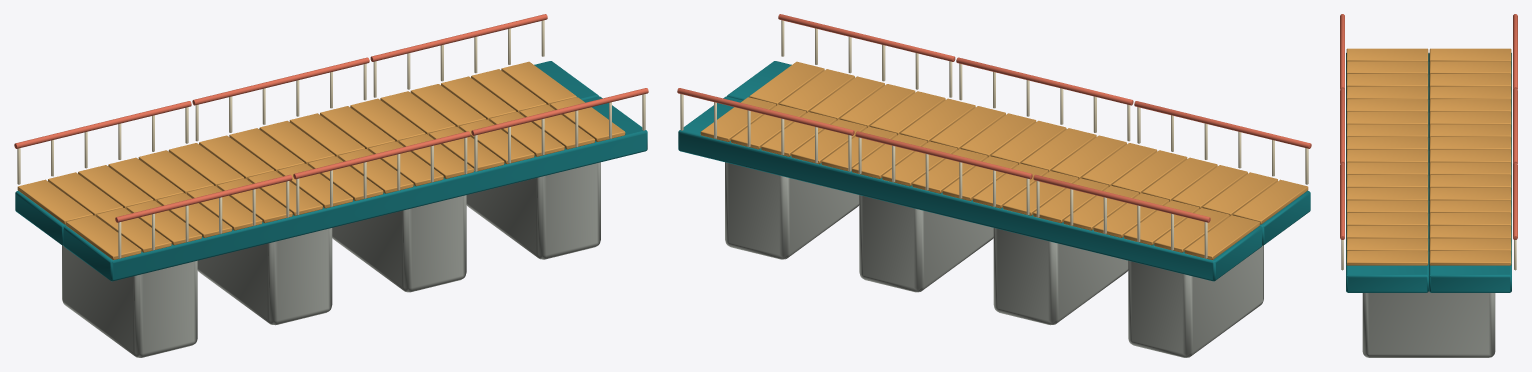
Rendered from project_2.glb.
3 views of the same model, side by side, from view 1: azimuth 30°, elevation 25°; view 2: azimuth 150°, elevation 25°; view 3: azimuth 270°, elevation 25° (orthographic). The views are drawn at different scales.
Visible parts, largest first — view 1: deck plank, deck plank.017, deck beam.001, bridge pier, bridge pier.001, bridge pier.002, bridge pier.003, handrail.016, handrail.018, handrail.014, deck beam, railing.012 (+2 smaller); view 2: deck plank.017, deck plank, deck beam, bridge pier, bridge pier.001, bridge pier.002, bridge pier.003, handrail.016, handrail.018, handrail.014, deck beam.001, railing.012 (+2 smaller); view 3: deck plank, deck plank.017, bridge pier.003, deck beam, deck beam.001, handrail.018, handrail.014, handrail.016, railing.024.
Boxes of the visible parts, bbox=[...] form: deck plank: bbox=[17, 61, 576, 224]; deck plank.017: bbox=[66, 97, 625, 260]; deck beam.001: bbox=[63, 96, 647, 281]; bridge pier: bbox=[62, 245, 197, 357]; bridge pier.001: bbox=[197, 228, 332, 325]; bridge pier.002: bbox=[332, 195, 466, 292]; bridge pier.003: bbox=[466, 162, 600, 259]; handrail.016: bbox=[192, 57, 470, 179]; handrail.018: bbox=[370, 14, 648, 135]; handrail.014: bbox=[14, 101, 292, 222]; deck beam: bbox=[15, 61, 598, 245]; railing.012: bbox=[195, 63, 467, 214]; deck plank.017: bbox=[749, 61, 1308, 224]; deck plank: bbox=[700, 97, 1259, 260]; deck beam: bbox=[678, 96, 1262, 281]; bridge pier: bbox=[1128, 245, 1263, 357]; bridge pier.001: bbox=[993, 228, 1128, 325]; bridge pier.002: bbox=[859, 195, 993, 292]; bridge pier.003: bbox=[725, 162, 859, 259]; handrail.016: bbox=[855, 57, 1133, 179]; handrail.018: bbox=[677, 14, 955, 135]; handrail.014: bbox=[1033, 101, 1311, 222]; deck beam.001: bbox=[727, 61, 1310, 245]; railing.012: bbox=[858, 63, 1130, 214]; deck plank: bbox=[1429, 48, 1511, 265]; deck plank.017: bbox=[1346, 48, 1428, 265]; bridge pier.003: bbox=[1362, 291, 1495, 357]; deck beam: bbox=[1429, 53, 1511, 292]; deck beam.001: bbox=[1346, 53, 1428, 292]; handrail.018: bbox=[1340, 163, 1517, 239]; handrail.014: bbox=[1340, 14, 1517, 89]; handrail.016: bbox=[1340, 88, 1517, 163]; railing.024: bbox=[1341, 240, 1516, 270].
Size of the model in its own units: 16 by 4.58 by 5.35.
